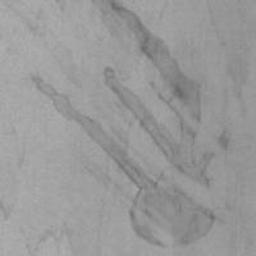Water spot: (1, 0, 216, 248), (218, 131, 230, 151)
